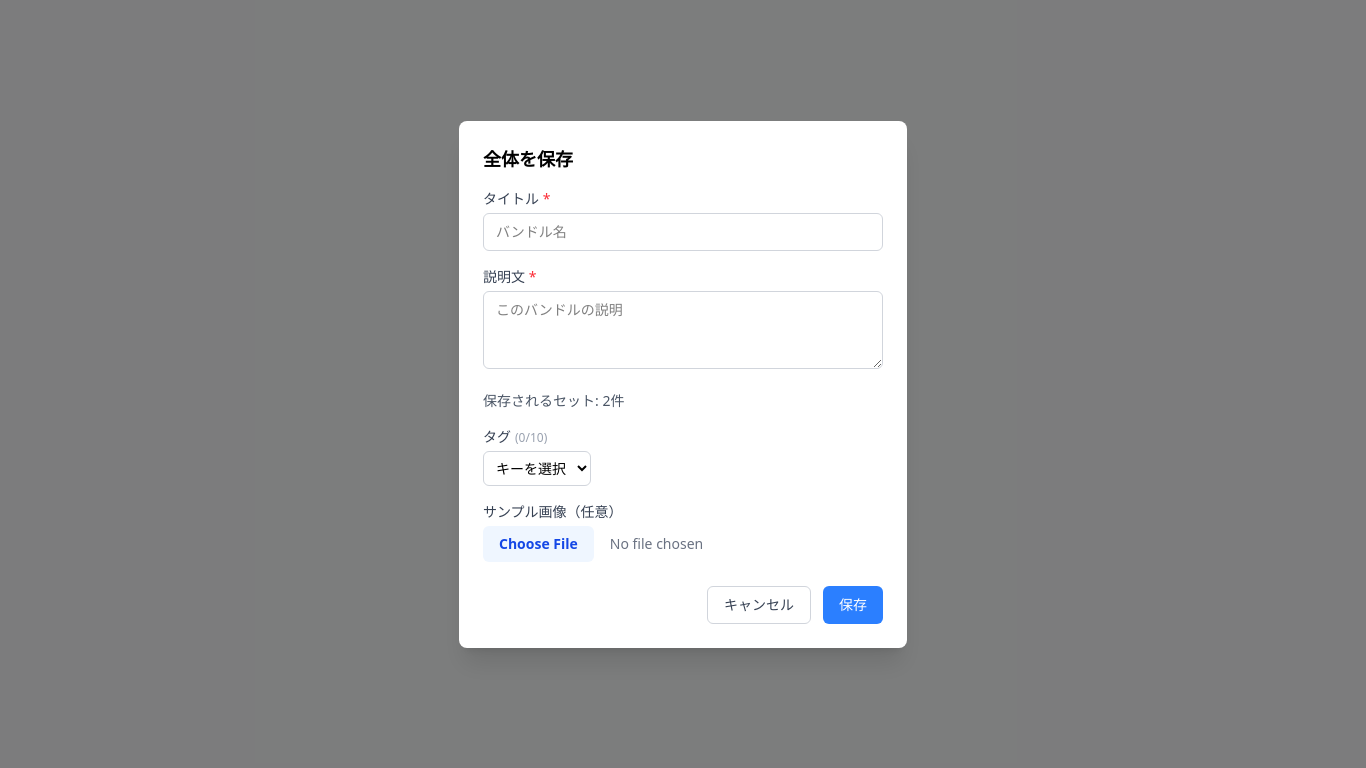
Test case: BundleSaveDialog › タイトルなしで保存するとエラーが表示される
Type "テスト" into the text box labelled "説明文 *" at (683, 330), box left=483, top=290, right=883, bottom=368
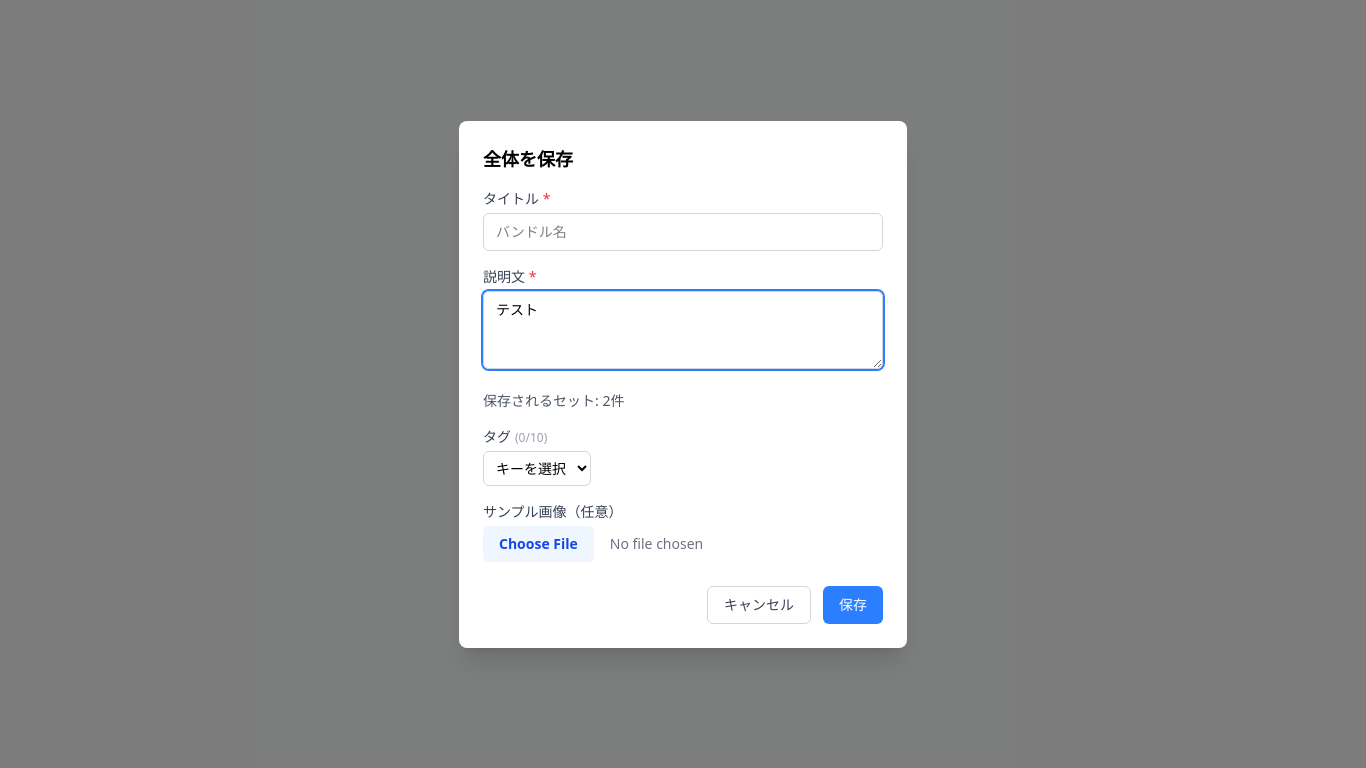
Click the button "保存" at (853, 604), box left=823, top=586, right=883, bottom=624
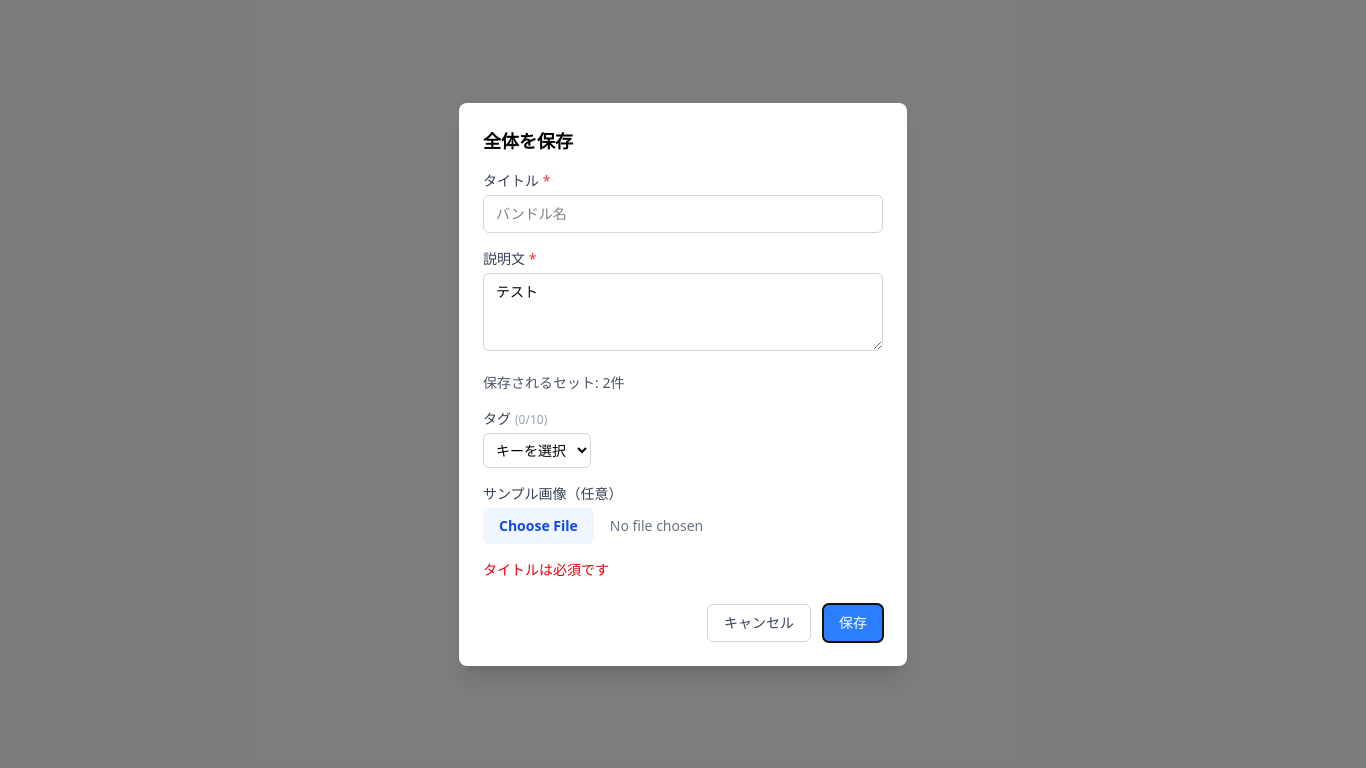
Check: the text with test id "bundle-save-error" reads "タイトルは必須です", box left=483, top=560, right=609, bottom=578
